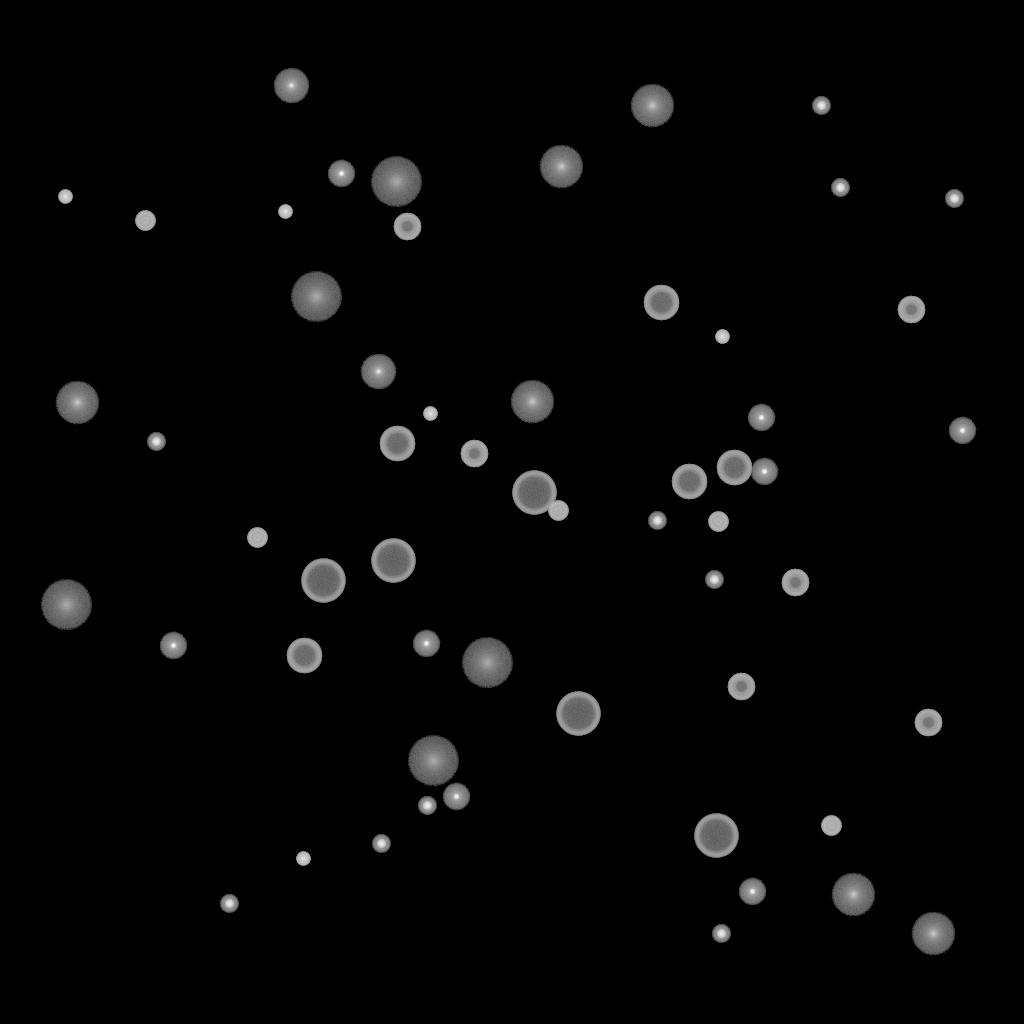depth:-10: (738, 878, 766, 906), (948, 417, 976, 445), (412, 630, 440, 658), (750, 458, 778, 486), (327, 160, 355, 188), (159, 632, 187, 660), (747, 404, 775, 432), (442, 783, 470, 811)
depth:-20: (712, 925, 730, 943), (220, 895, 238, 913), (812, 97, 830, 115), (648, 512, 666, 530), (372, 835, 390, 853), (705, 571, 723, 589), (945, 190, 963, 208), (831, 179, 849, 197), (418, 797, 436, 815), (147, 433, 165, 451)
depth:-30: (58, 190, 72, 204), (278, 205, 292, 219), (715, 330, 729, 344), (423, 407, 437, 421), (296, 852, 310, 866)
depth:-40: (821, 816, 841, 836), (247, 528, 267, 548), (135, 211, 155, 231), (708, 512, 728, 532), (548, 501, 568, 521)
depth:-50: (727, 673, 755, 701), (460, 440, 488, 468), (781, 569, 809, 597), (897, 296, 925, 324), (393, 213, 421, 241), (914, 709, 942, 737)
depth:-60: (379, 426, 415, 462), (716, 450, 752, 486), (643, 285, 679, 321), (671, 464, 707, 500), (286, 638, 322, 674)
depth:-70: (556, 692, 600, 736), (371, 539, 415, 583), (512, 471, 556, 515), (694, 814, 738, 858), (301, 559, 345, 603)
depth:0: (273, 68, 309, 104), (360, 354, 396, 390)
depth:10: (630, 84, 674, 128), (510, 380, 554, 424), (539, 145, 583, 189), (831, 873, 875, 917), (911, 912, 955, 956), (55, 381, 99, 425)
depth:20: (40, 580, 92, 630), (370, 157, 422, 207), (290, 272, 342, 322), (461, 638, 513, 688), (407, 736, 459, 786)
